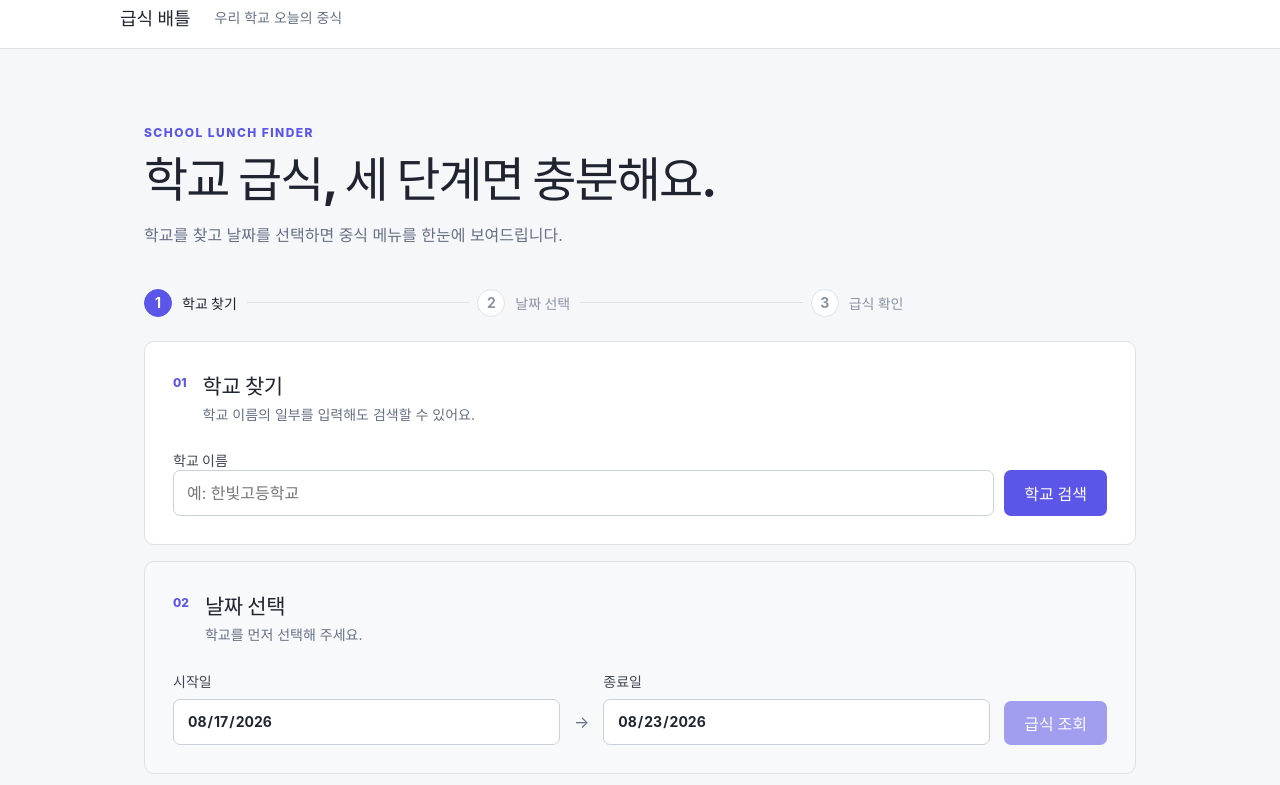
Test: App › validates a date range longer than 31 days
Type "예시" into the dropdown labelled "학교 이름" at (584, 493), box top-left (173, 470), bottom-right (994, 516)
Then press Enter
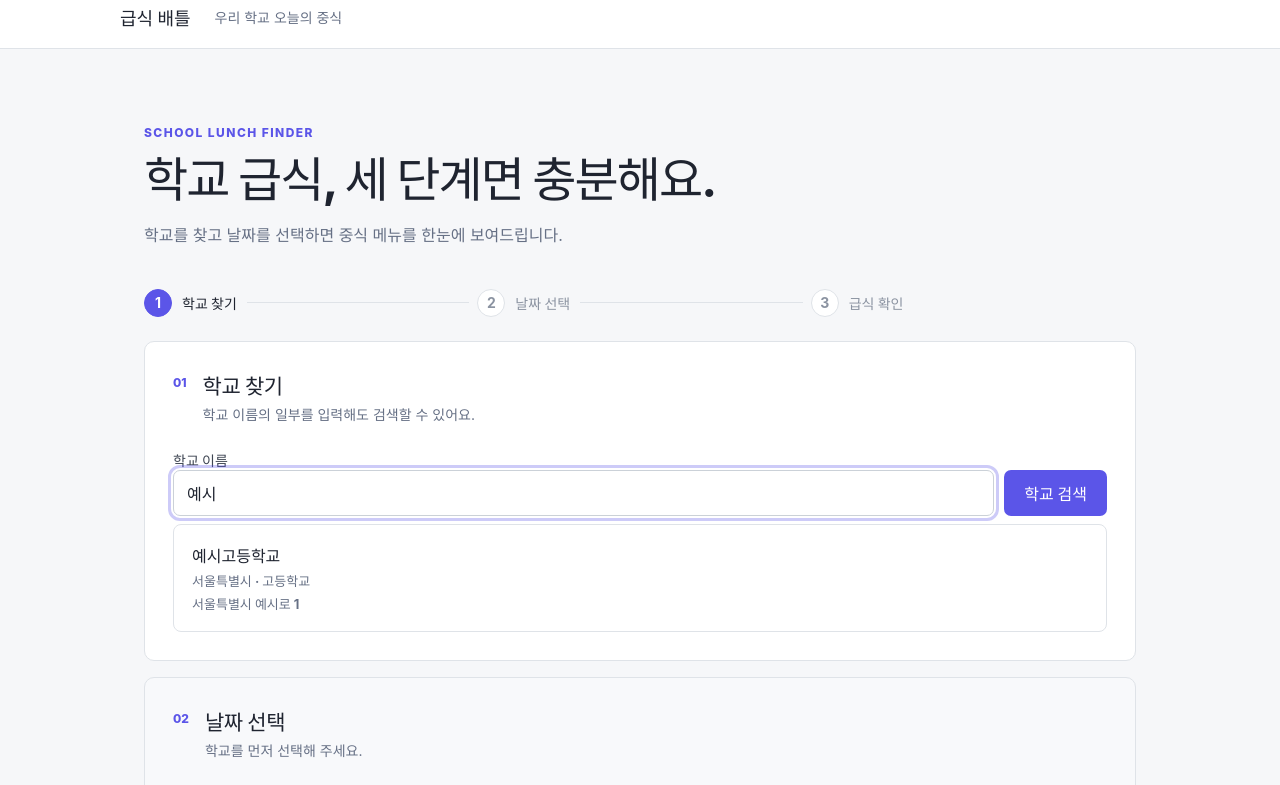
Click the button "예시고등학교 서울특별시 · 고등학교 서울특별시 예시로 1" at (236, 556), box top-left (180, 531), bottom-right (1100, 625)
(page scrolled)
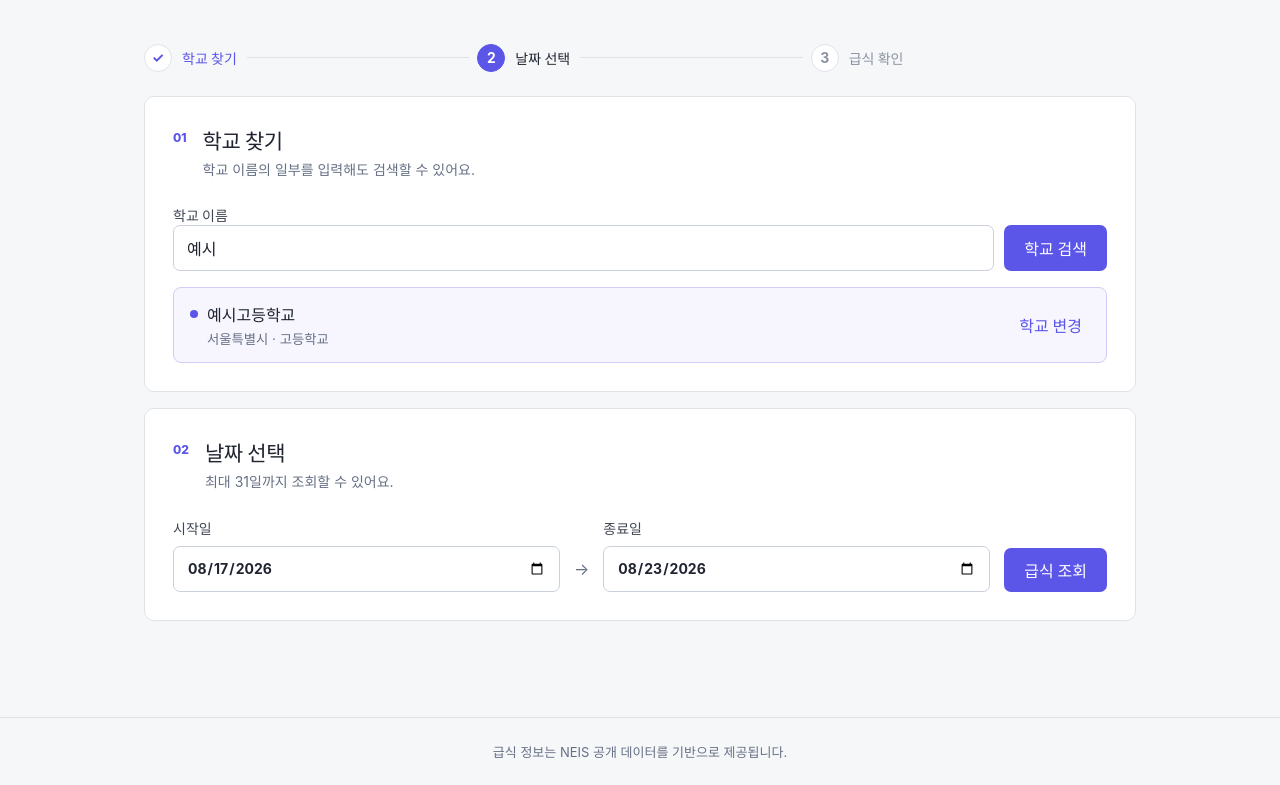
Type "2026-08-01" into the date field labelled "시작일" at (366, 569), box top-left (173, 546), bottom-right (560, 592)
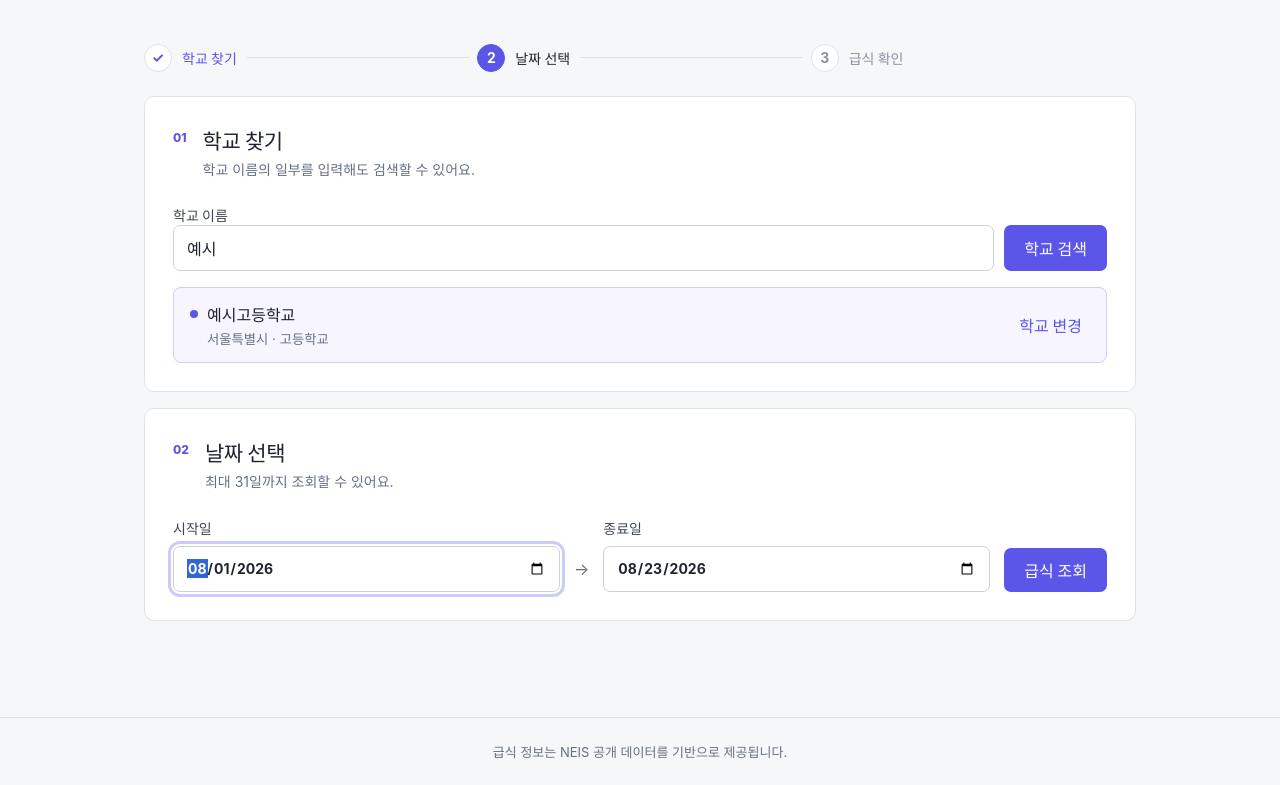
Type "2026-09-01" into the date field labelled "종료일" at (797, 569), box top-left (603, 546), bottom-right (990, 592)
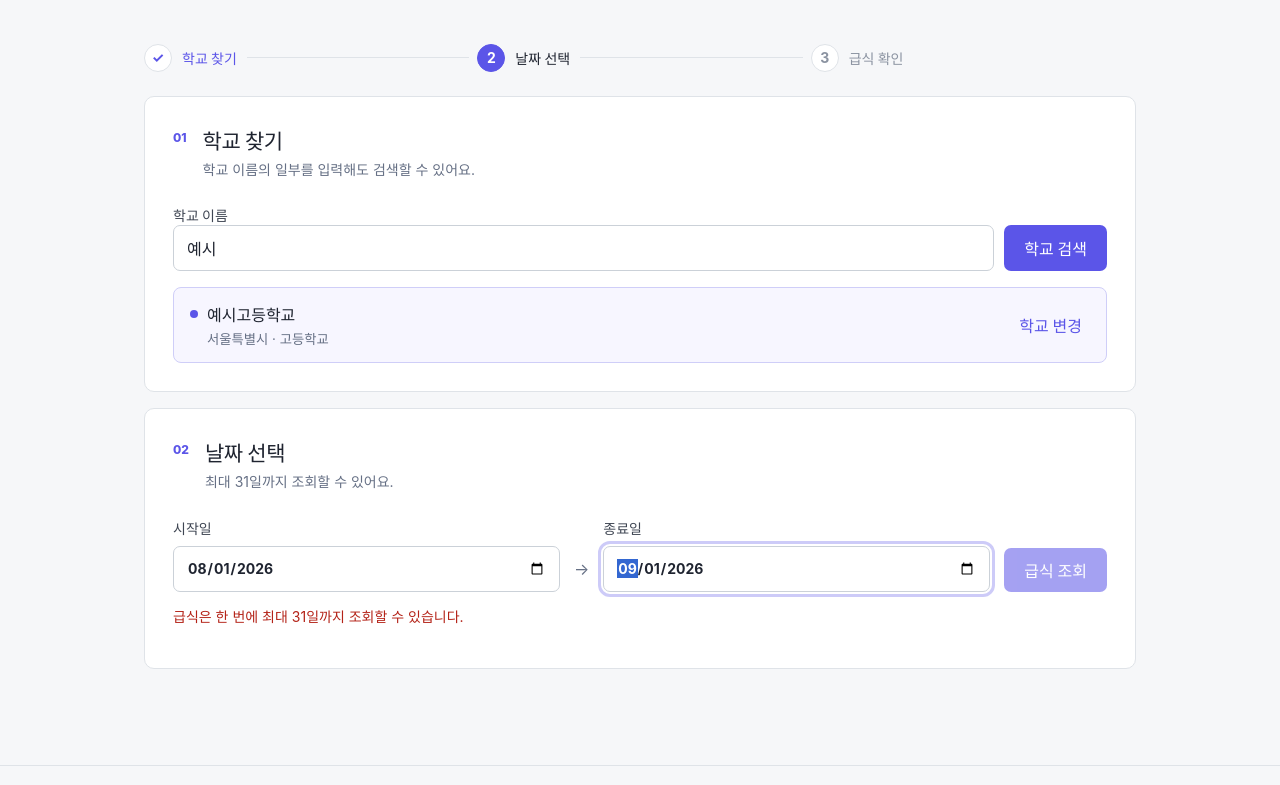
Expected: the button "급식 조회" is disabled, top-left (1004, 548), bottom-right (1107, 592)
Expected: the message shows "최대 31일", top-left (173, 608), bottom-right (464, 625)
